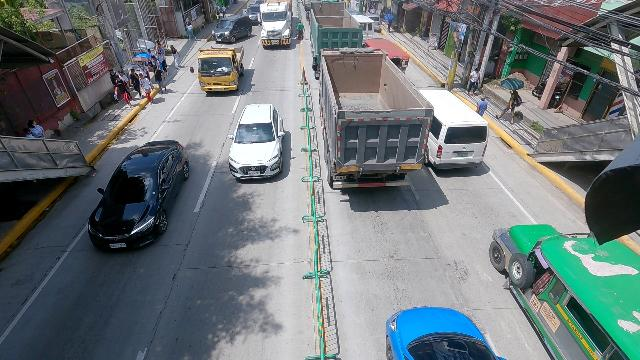car: (85, 138, 189, 255), (225, 102, 285, 182), (246, 2, 264, 25), (252, 0, 266, 7)
jeepney: (481, 215, 640, 360), (365, 36, 412, 73)
truck: (321, 47, 421, 191), (307, 1, 365, 80), (193, 44, 246, 95), (260, 0, 293, 49)
van: (387, 306, 511, 360), (416, 87, 486, 172), (210, 14, 253, 44), (350, 13, 377, 43)
